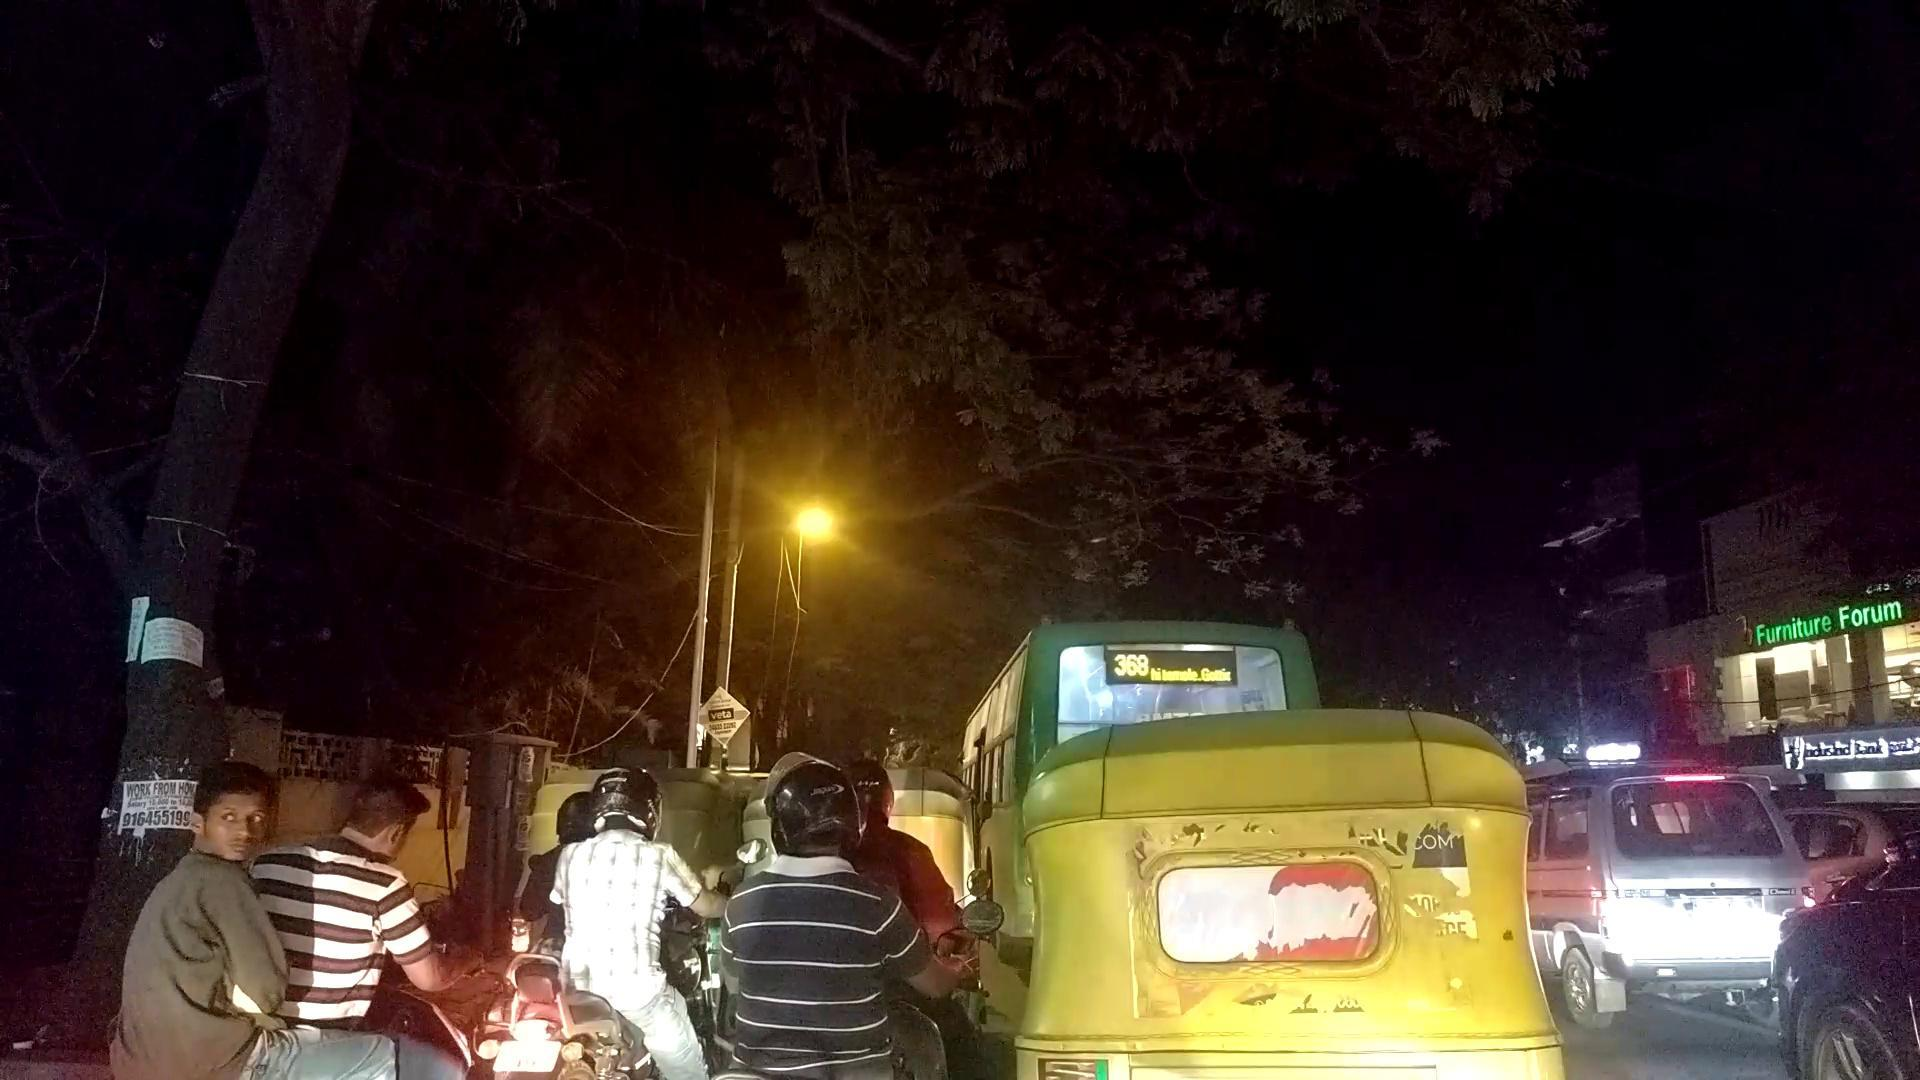on: (40, 12, 1920, 978)
